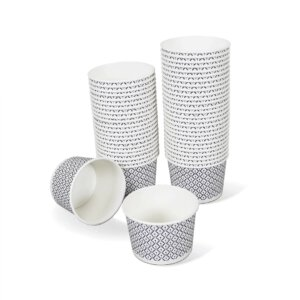PaperCup: (118, 184, 201, 266)
